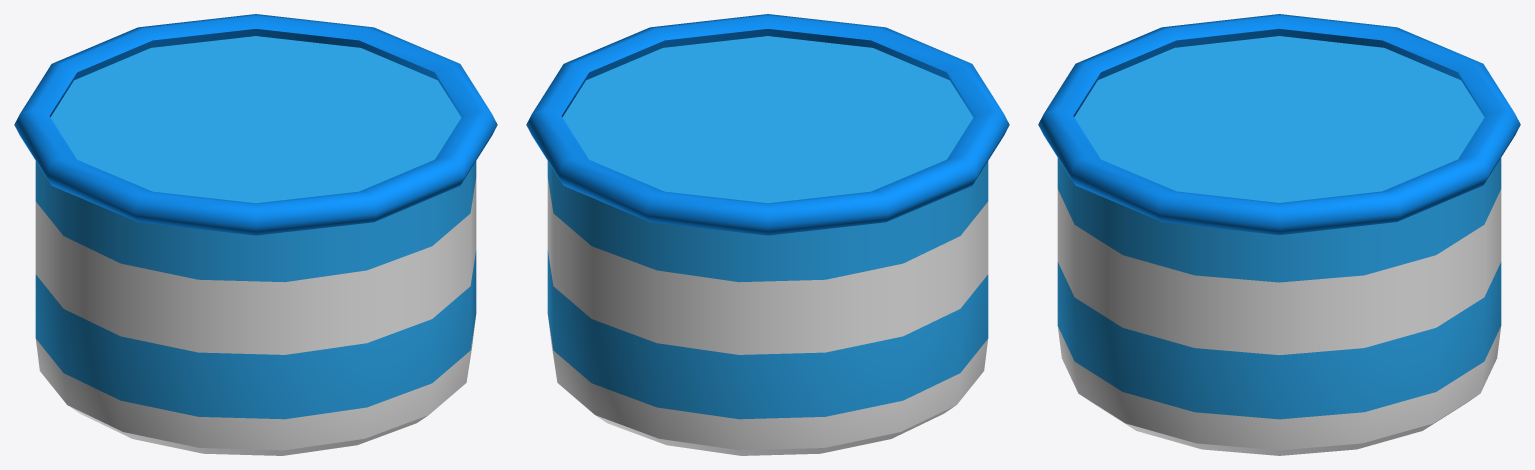
File: Body_Dress_07.fbx
The picture shows the model from 3 angles, left to right: view 1: azimuth 30°, elevation 25°; view 2: azimuth 150°, elevation 25°; view 3: azimuth 270°, elevation 25°; orthographic projection.
Parts seen in each view (by area): view 1: Body_Dress_07; view 2: Body_Dress_07; view 3: Body_Dress_07.
Boxes of the visible parts, box(x1,y1,x2,y2) form: Body_Dress_07: box(14, 14, 497, 455); Body_Dress_07: box(526, 14, 1009, 455); Body_Dress_07: box(1038, 14, 1520, 455).
Bounding box in the file's own units: 109 × 64.65 × 109.
